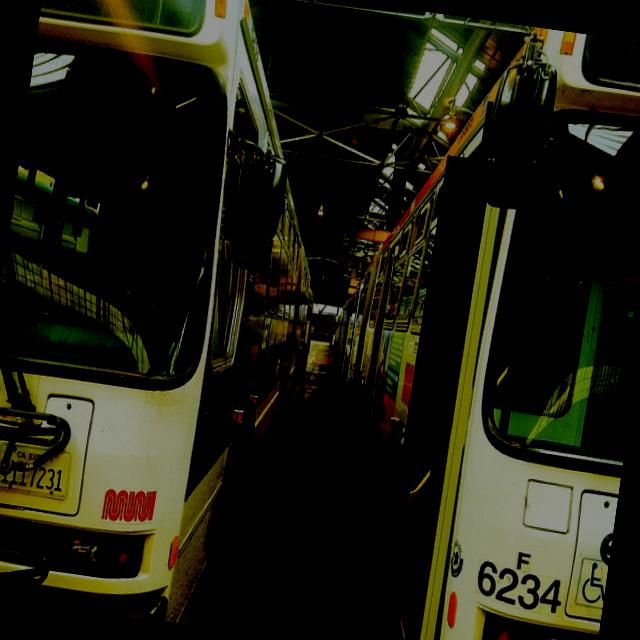Vehicle: (0, 0, 366, 637), (320, 10, 640, 640)
